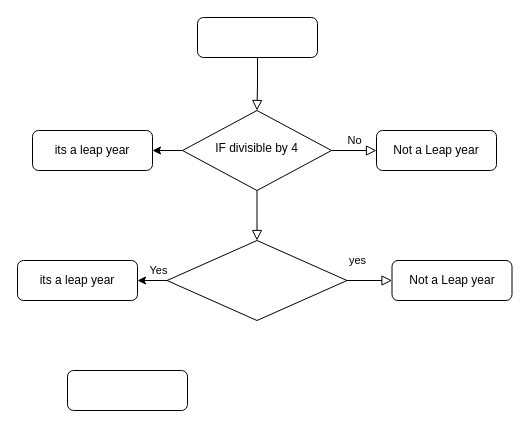
Image size: 530x428. Some labels were removed from this diagram. Each missing label, with the box of its shape:
IF divisible by 100: (166, 240, 347, 320)
Leap year: (196, 16, 318, 58)
Repair Lamp: (66, 370, 188, 410)
